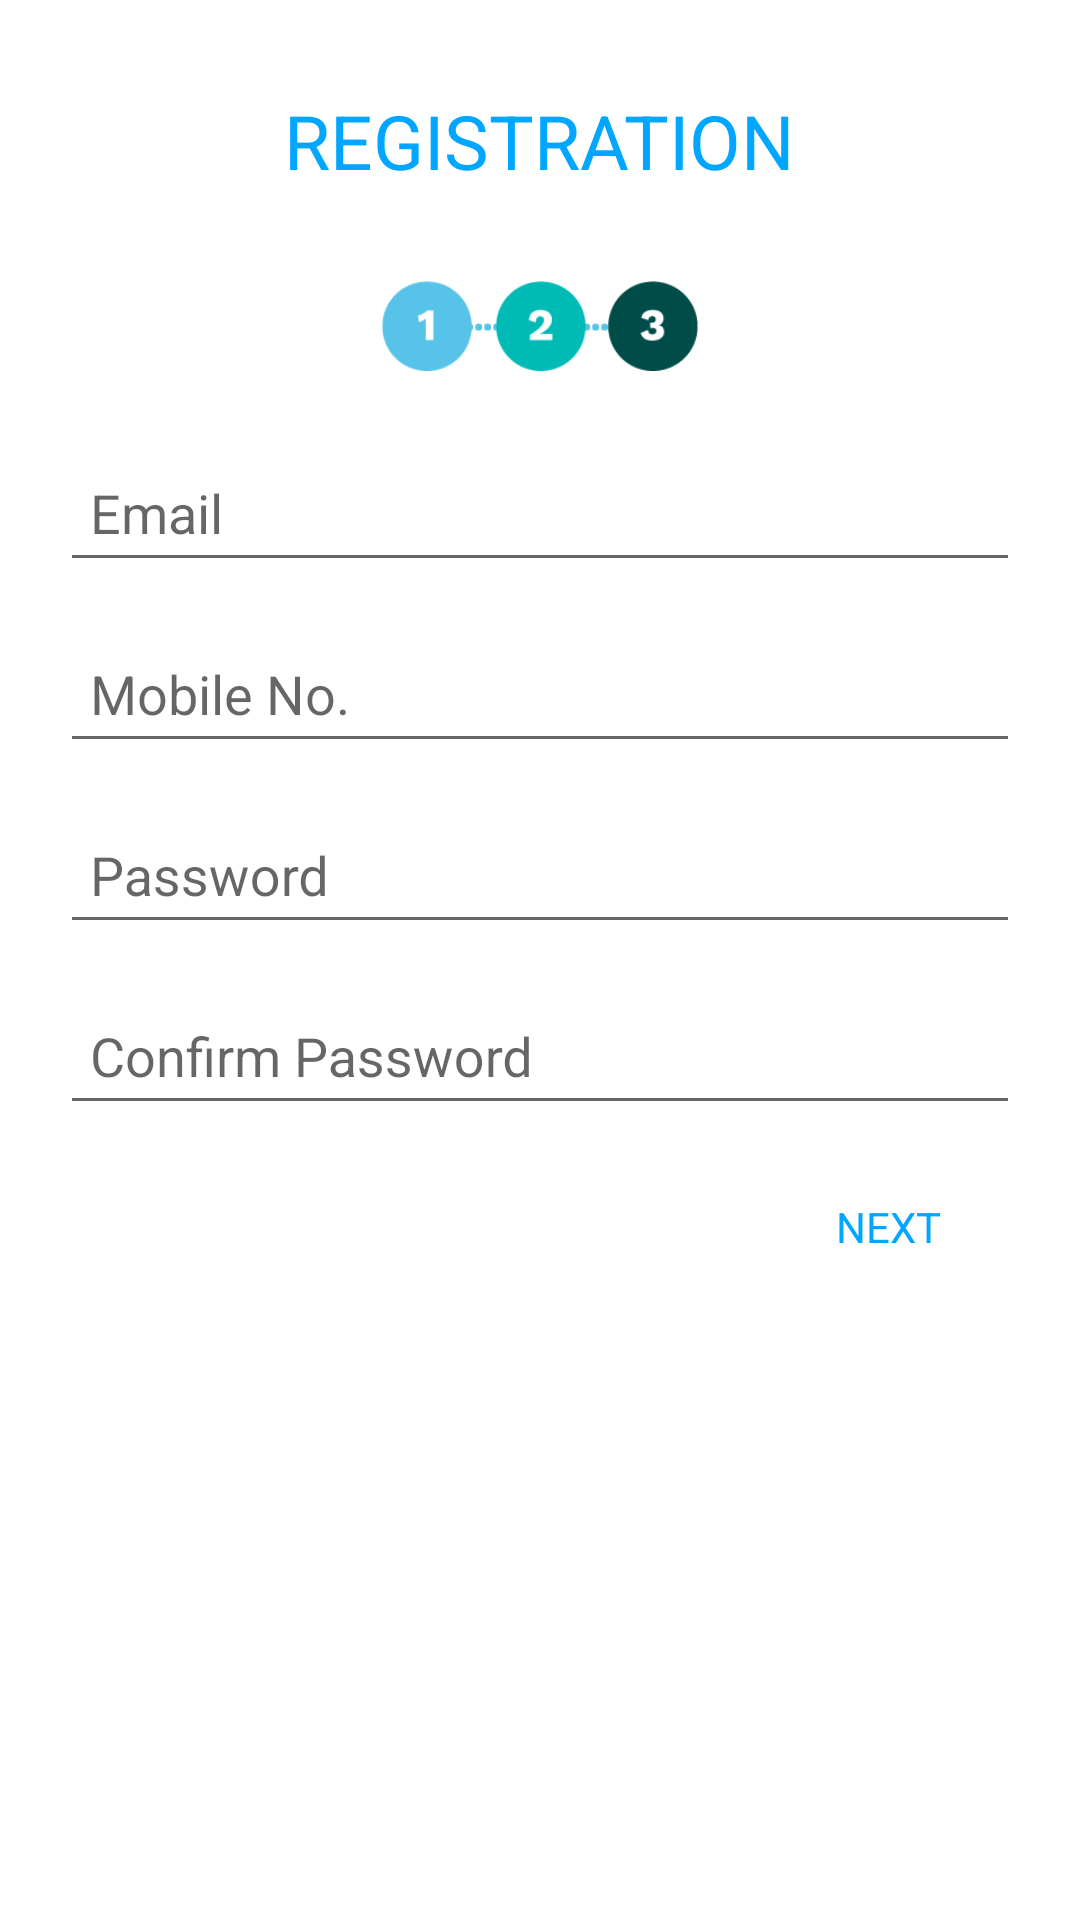

Where icons sit on this 1080 x 1920 app screen, as bbox=[x1, y1, x2, y2]:
steps: bbox=[382, 281, 698, 371]
